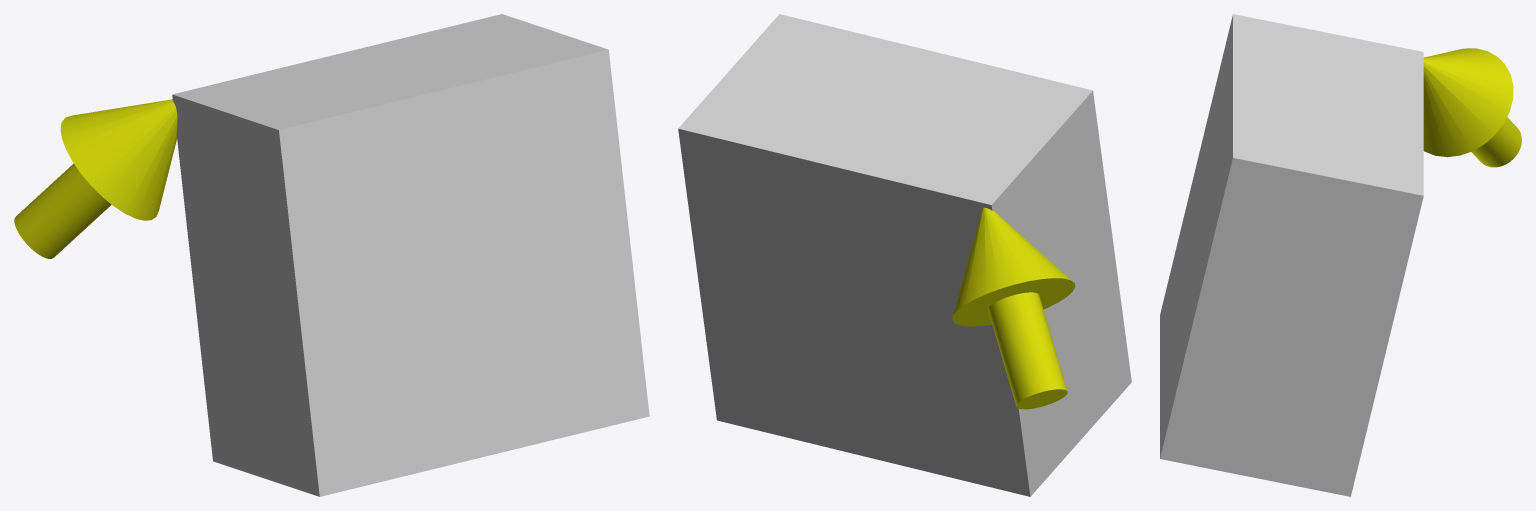
Rendered from draw_primitive.dae.
The picture shows the model from 3 angles, left to right: view 1: azimuth 30°, elevation 25°; view 2: azimuth 150°, elevation 25°; view 3: azimuth 270°, elevation 25°; orthographic projection. The views are drawn at different scales.
Parts seen in each view (by area): view 1: Model; view 2: Model; view 3: Model.
Boxes of the visible parts, x1=… form: Model: x1=14, y1=14, x2=649, y2=496; Model: x1=678, y1=14, x2=1131, y2=496; Model: x1=1160, y1=14, x2=1521, y2=496.
Size of the model in its own units: 1 by 0.8142 by 0.7875.
